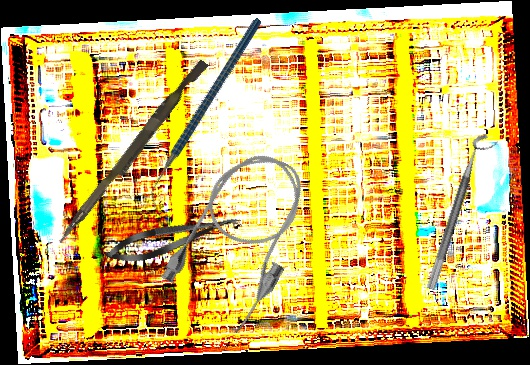Cannula: (154, 136, 330, 339)
Chopper: (101, 17, 311, 209)
Fixation Ring: (425, 131, 499, 295)
Micro Scissor: (102, 206, 245, 270)
Pusher: (56, 55, 209, 250)
